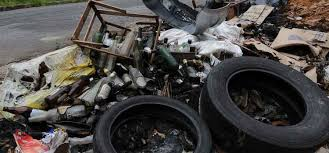tire: (201, 56, 329, 152), (94, 94, 212, 153)
